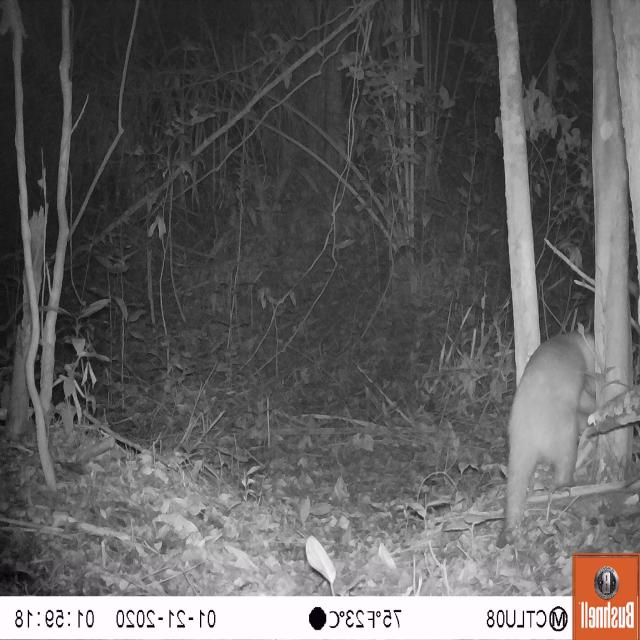Southern Tamandua: (485, 314, 610, 556)
